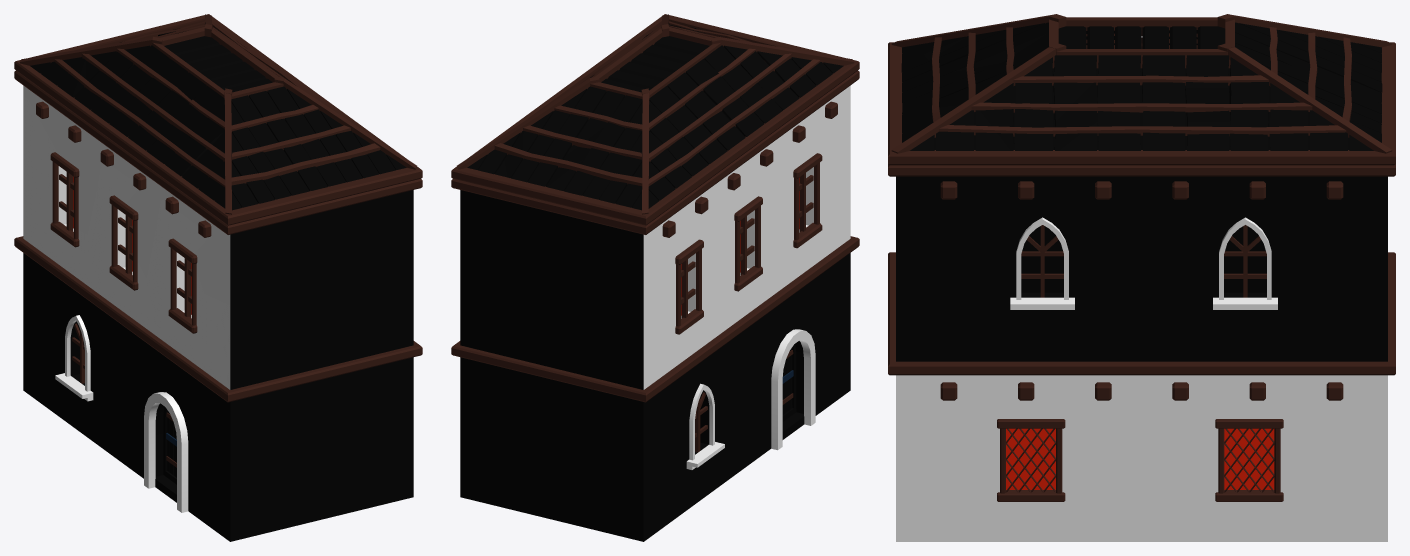
The model's file is civilian_house_38_h.FBX.
The picture shows the model from 3 angles, left to right: view 1: azimuth 30°, elevation 25°; view 2: azimuth 150°, elevation 25°; view 3: azimuth 270°, elevation 25°; orthographic projection. The views are drawn at different scales.
Visible parts, largest first — view 1: civilian_house_38_h; view 2: civilian_house_38_h; view 3: civilian_house_38_h.
Boxes of the visible parts, box(x1,y1,x2,y2) form: civilian_house_38_h: box(14, 14, 422, 541); civilian_house_38_h: box(451, 14, 859, 541); civilian_house_38_h: box(888, 14, 1395, 541).
Bounding box in the file's own units: 573 × 1025 × 1032.
